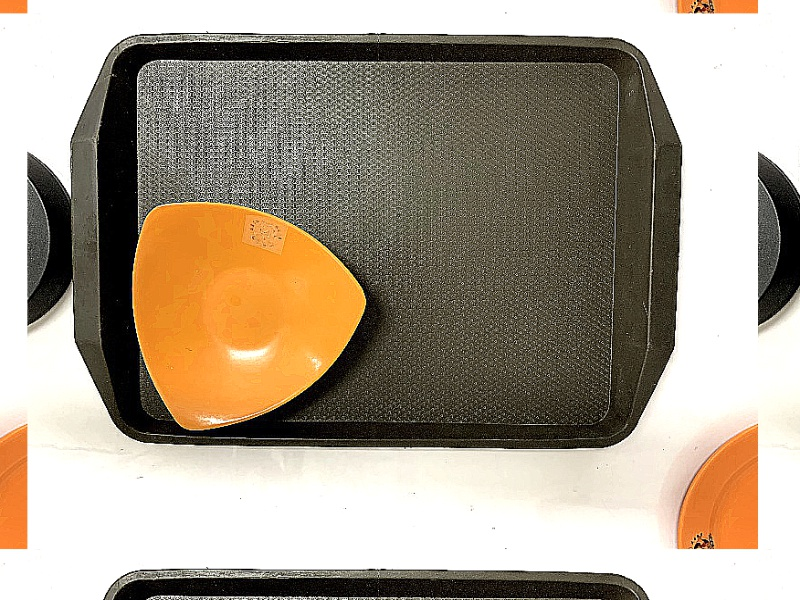dish11: (128, 198, 375, 436)
